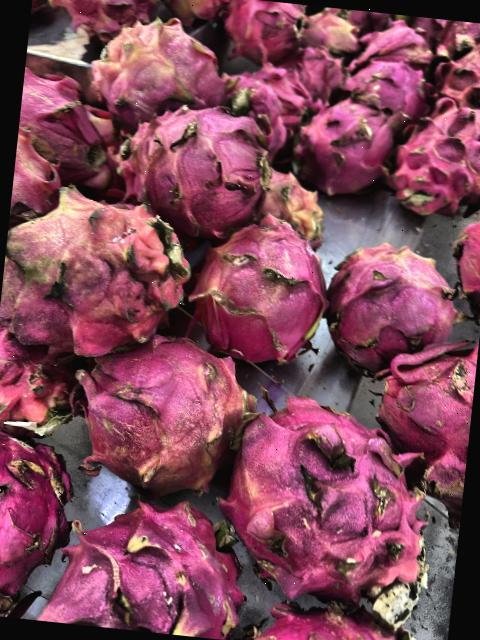buah-naga-belum-matang: (66, 326, 260, 501), (0, 183, 195, 357), (310, 229, 454, 362), (80, 15, 234, 124), (255, 166, 342, 256), (301, 7, 362, 61)
buah-naga-matang: (214, 392, 454, 620), (51, 490, 261, 640), (357, 321, 480, 503), (114, 100, 274, 228), (200, 216, 328, 365), (12, 56, 124, 202), (0, 425, 81, 619), (300, 82, 400, 199), (394, 100, 480, 212), (213, 72, 306, 160), (225, 0, 307, 60), (350, 55, 426, 117), (355, 19, 438, 73), (434, 35, 480, 108), (51, 0, 147, 34), (286, 50, 338, 94)
